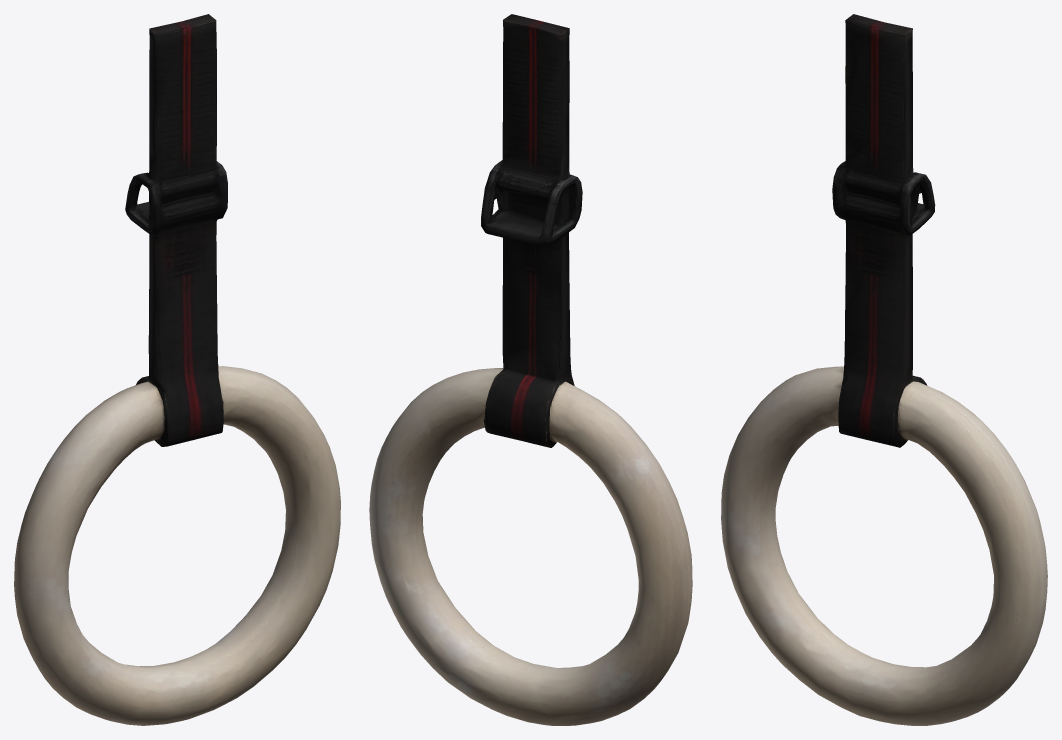
The model's file is ring.glb.
3 renders of one model, left to right at view 1: azimuth 30°, elevation 25°; view 2: azimuth 150°, elevation 25°; view 3: azimuth 330°, elevation 25°, orthographic.
Visible parts, largest first — view 1: geometry_0; view 2: geometry_0; view 3: geometry_0.
Boxes of the visible parts, <box> form: geometry_0: <box>14,14,340,725</box>; geometry_0: <box>369,14,692,725</box>; geometry_0: <box>721,14,1047,725</box>.
Size of the model in its own units: 0.4791 by 0.9999 by 0.1004.
1 material, 1 textured.
